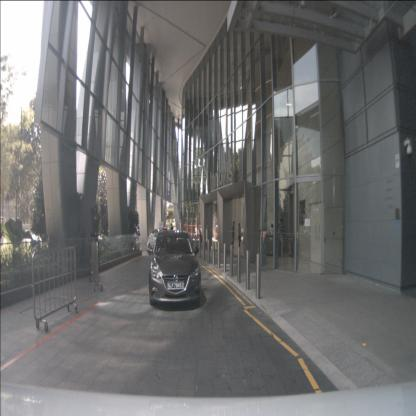barrier: (32, 246, 78, 331), (89, 238, 103, 292)
